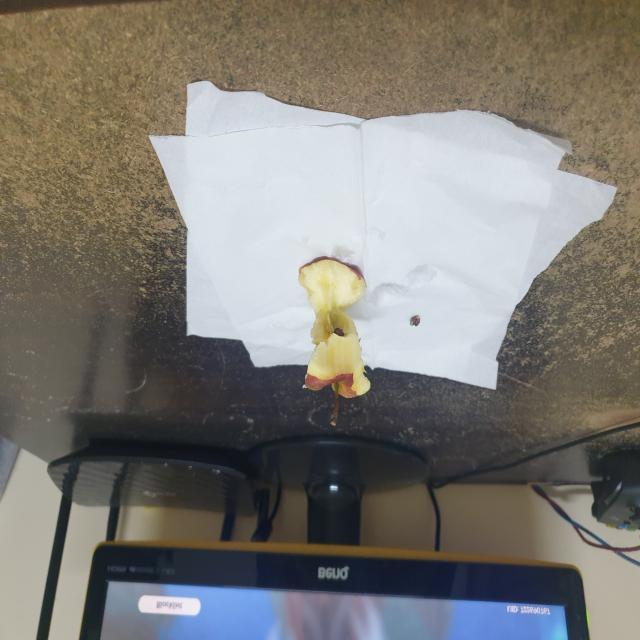apple: (291, 234, 377, 436)
